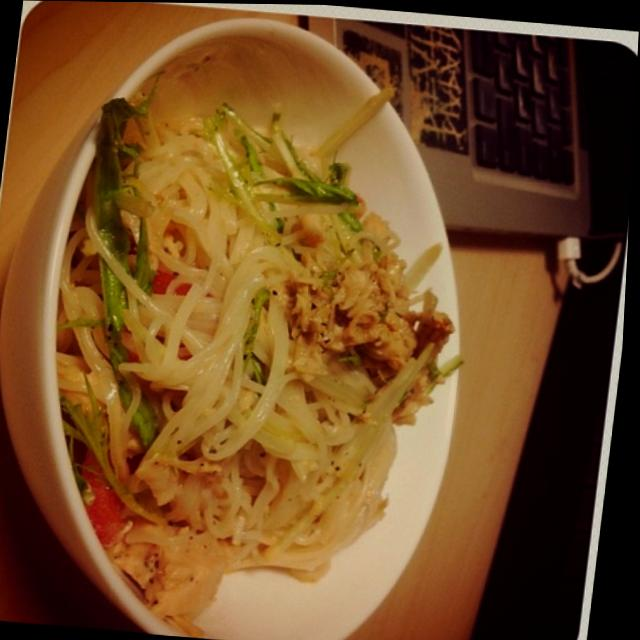面条主食: (0, 5, 529, 640)
